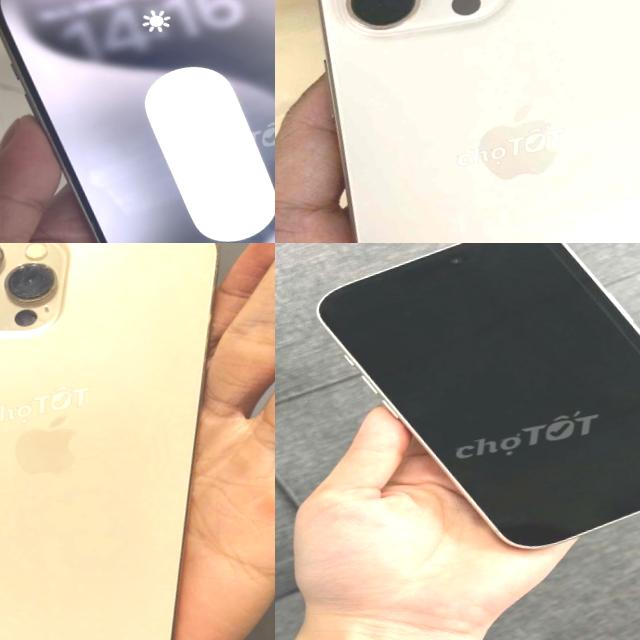gen_12_13: (0, 243, 275, 640)
gen_15: (0, 0, 275, 243)
gen_16: (318, 0, 640, 243)
gen_17: (290, 243, 640, 583)
